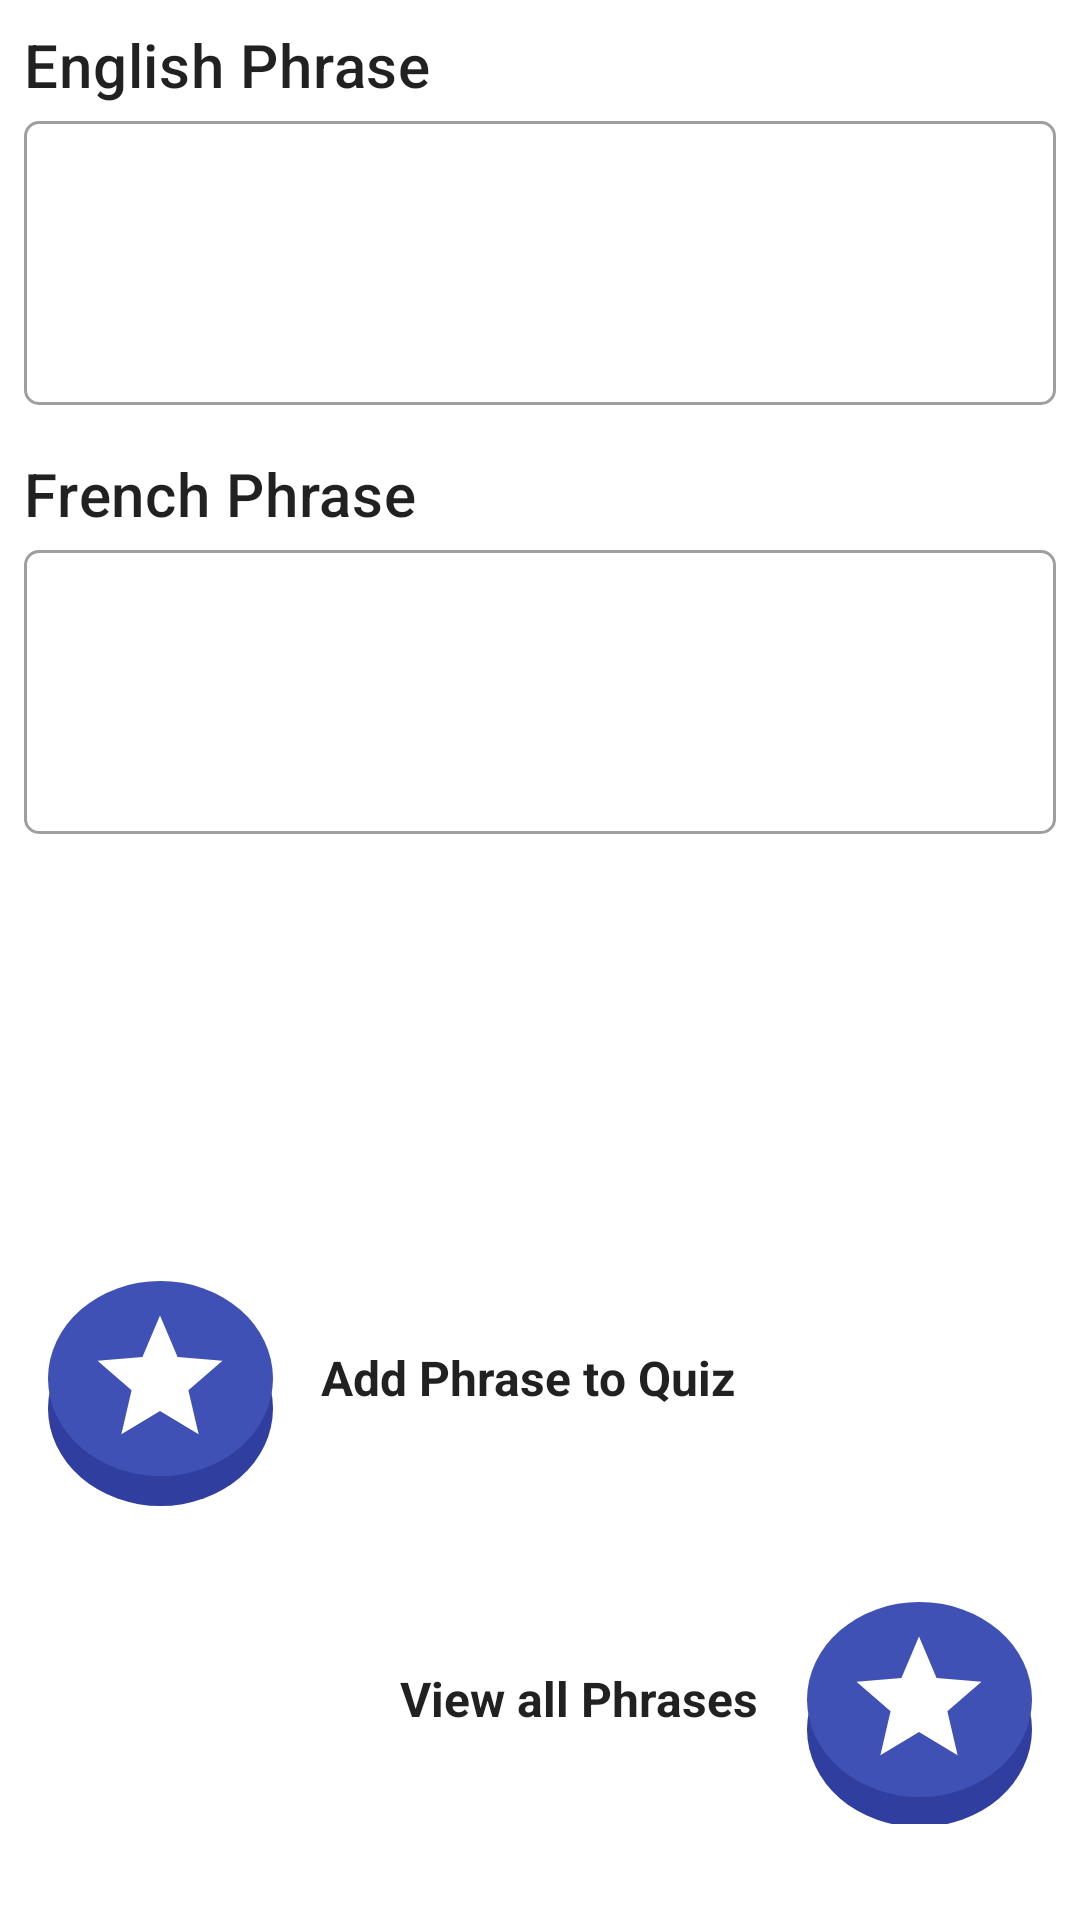

Screen size 1080 x 1920. Icon name, then its box in pixels as (x1, y1, x2, y2):
star: (98, 1316, 222, 1434), (857, 1637, 981, 1755)
